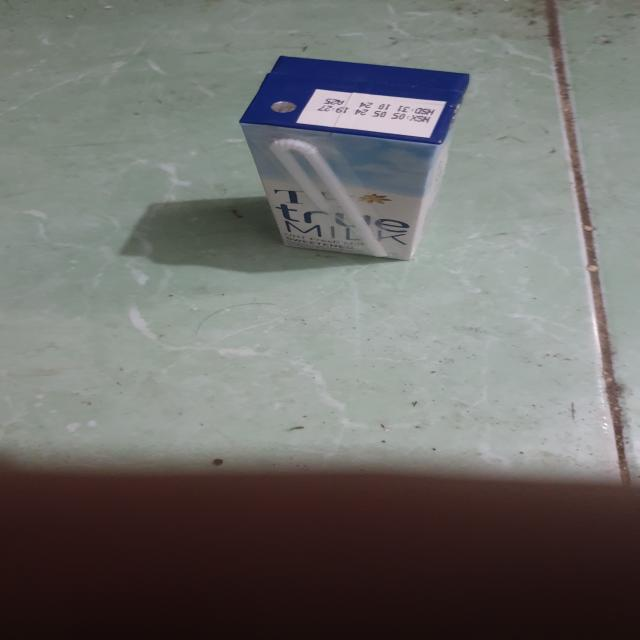TH: (238, 58, 468, 264)
